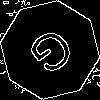G: (25, 25, 84, 85)
